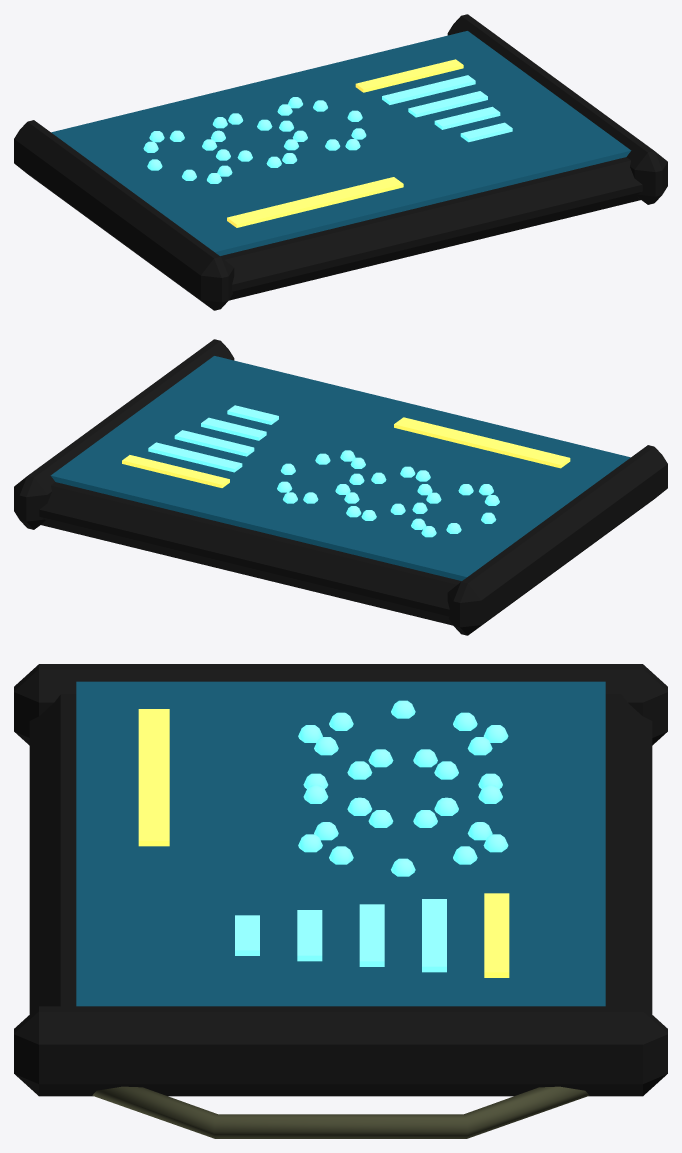
Rendered from scanner_tablet.glb.
3 views of the same model, one above another, from view 1: azimuth 30°, elevation 25°; view 2: azimuth 150°, elevation 25°; view 3: azimuth 270°, elevation 25° (orthographic). The views are drawn at different scales.
Visible parts, largest first — view 1: scanner_tablet; view 2: scanner_tablet; view 3: scanner_tablet.
Part boxes in pixels (left/top/right/bottom): scanner_tablet: left=14, top=14, right=667, bottom=310; scanner_tablet: left=14, top=339, right=667, bottom=635; scanner_tablet: left=14, top=664, right=667, bottom=1138.
Size of the model in its own units: 0.2989 by 0.0355 by 0.21.
